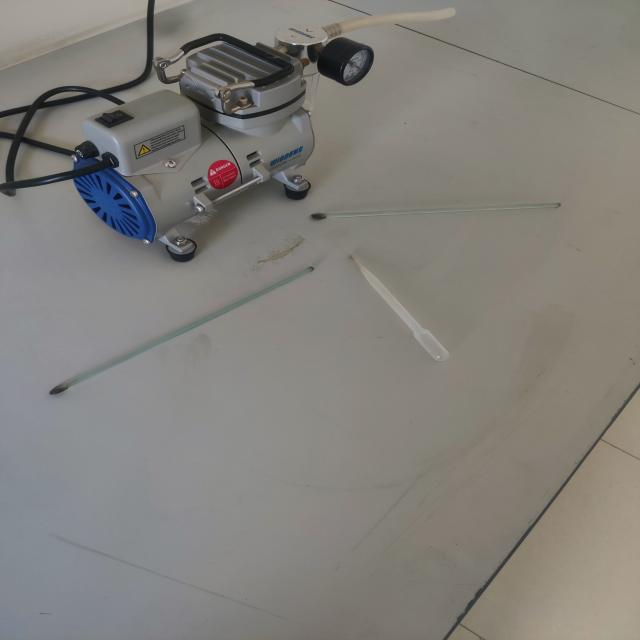Glass_Rod: (31, 248, 340, 410), (282, 191, 591, 238)
Pipette: (331, 239, 470, 376)
